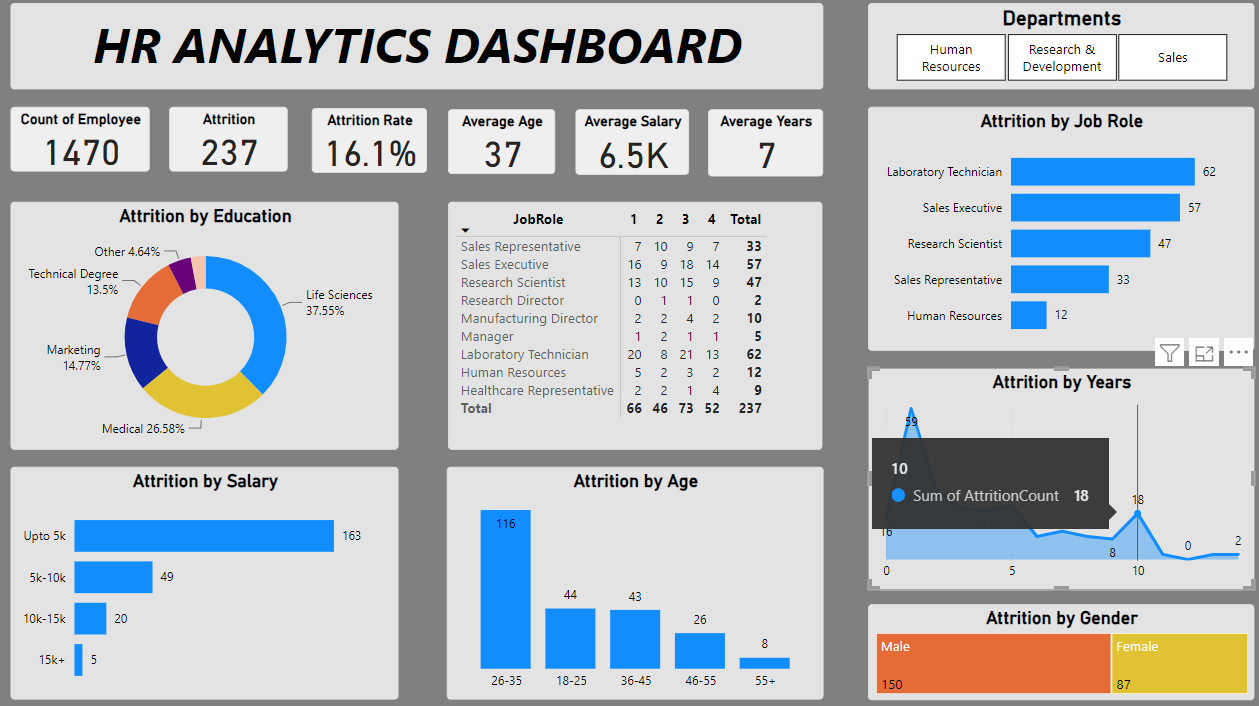

The dashboard page shown, as its layout file describes it:
{"tool":"powerbi","page":{"name":"Page 1","canvas":[1280,720],"ordinal":0},"visuals":[{"type":"card","title":"Count of Employee","fields":{"Values":["CountNonNull(HR_Analytics.EmpID)"]},"box":[17,113.8,139.4,64.9],"z":0},{"type":"card","title":"Attrition","fields":{"Values":["Sum(HR_Analytics.AttritionCount)"]},"box":[176.6,113.8,118.1,64.9],"z":1000},{"type":"card","title":"Attrition Rate","fields":{"Values":["HR_Analytics.AttritionRate"]},"box":[319.1,114.9,114.9,64.9],"z":2000},{"type":"card","title":"Average Age ","fields":{"Values":["Avg(HR_Analytics.Age)"]},"box":[455.3,116,107.4,64.9],"z":3000},{"type":"card","title":"Average Salary","fields":{"Values":["Avg(HR_Analytics.MonthlyIncome)"]},"box":[583,116,113.8,66],"z":4000},{"type":"card","title":"Average Years ","fields":{"Values":["Avg(HR_Analytics.YearsAtCompany)"]},"box":[714.9,116,114.9,67],"z":5000},{"type":"donutChart","title":"Attrition by Education","fields":{"Category":["HR_Analytics.EducationField"],"Y":["Sum(HR_Analytics.AttritionCount)"]},"box":[17,208.5,388.3,247.9],"z":6000},{"type":"columnChart","title":"Attrition by Age","fields":{"Category":["HR_Analytics.AgeGroup"],"Y":["Sum(HR_Analytics.AttritionCount)"]},"box":[453.2,473.4,376.6,233],"z":7000},{"type":"pivotTable","fields":{"Rows":["HR_Analytics.JobRole"],"Columns":["HR_Analytics.JobSatisfaction"],"Values":["Sum(HR_Analytics.AttritionCount)"]},"box":[455.3,208.5,374.5,247.9],"z":8000},{"type":"barChart","title":"Attrition by Salary","fields":{"Category":["HR_Analytics.SalarySlab"],"Y":["Sum(HR_Analytics.AttritionCount)"]},"box":[17,473.4,388.3,233],"z":9000},{"type":"barChart","title":"Attrition by Job Role","fields":{"Category":["HR_Analytics.JobRole"],"Y":["Sum(HR_Analytics.AttritionCount)"]},"box":[875.5,113.8,386.2,243.6],"z":10000},{"type":"areaChart","title":"Attrition by Years","fields":{"Category":["HR_Analytics.YearsAtCompany"],"Y":["Sum(HR_Analytics.AttritionCount)"]},"box":[875,375,386.2,222.5],"z":11000},{"type":"treemap","title":"Attrition by Gender","fields":{"Group":["HR_Analytics.Gender"],"Values":["Sum(HR_Analytics.AttritionCount)"]},"box":[875.5,610.6,386.2,95.7],"z":12000},{"type":"slicer","title":"Departments","fields":{"Values":["HR_Analytics.Department"]},"box":[875.5,9.6,386.2,86.2],"z":13000},{"type":"textbox","box":[17,9.6,812.8,86.2],"z":14000}]}

Visuals, with their boxes in screenshot pixels (x1, y1, x2, y2), scaled from the page's 1280x720 canvas onto the 1259x706 screenshot:
"Count of Employee" card: {"left": 17, "top": 112, "right": 154, "bottom": 175}
"Attrition" card: {"left": 174, "top": 112, "right": 290, "bottom": 175}
"Attrition Rate" card: {"left": 314, "top": 113, "right": 427, "bottom": 176}
"Average Age " card: {"left": 448, "top": 114, "right": 553, "bottom": 177}
"Average Salary" card: {"left": 573, "top": 114, "right": 685, "bottom": 178}
"Average Years " card: {"left": 703, "top": 114, "right": 816, "bottom": 179}
"Attrition by Education" donutChart: {"left": 17, "top": 204, "right": 399, "bottom": 448}
"Attrition by Age" columnChart: {"left": 446, "top": 464, "right": 816, "bottom": 693}
pivotTable - HR_Analytics.JobRole x HR_Analytics.JobSatisfaction: {"left": 448, "top": 204, "right": 816, "bottom": 448}
"Attrition by Salary" barChart: {"left": 17, "top": 464, "right": 399, "bottom": 693}
"Attrition by Job Role" barChart: {"left": 861, "top": 112, "right": 1241, "bottom": 350}
"Attrition by Years" areaChart: {"left": 861, "top": 368, "right": 1241, "bottom": 586}
"Attrition by Gender" treemap: {"left": 861, "top": 599, "right": 1241, "bottom": 693}
"Departments" slicer: {"left": 861, "top": 9, "right": 1241, "bottom": 94}
textbox: {"left": 17, "top": 9, "right": 816, "bottom": 94}
